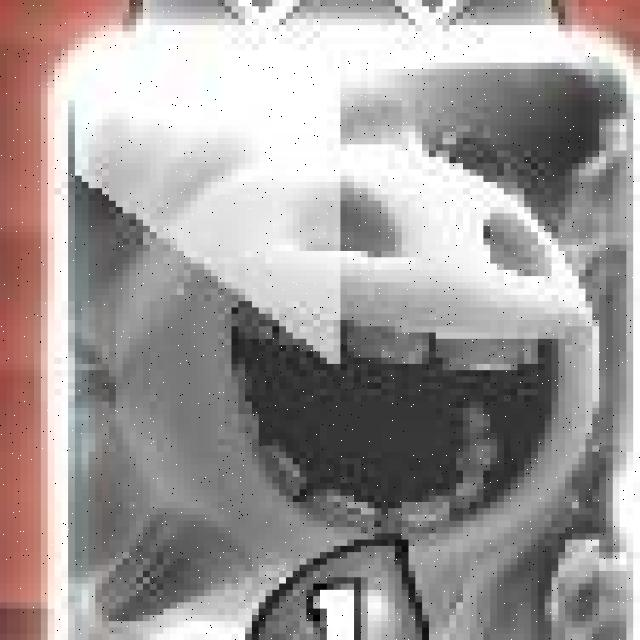Evolved_Ice_Spirit: (51, 32, 640, 640)
